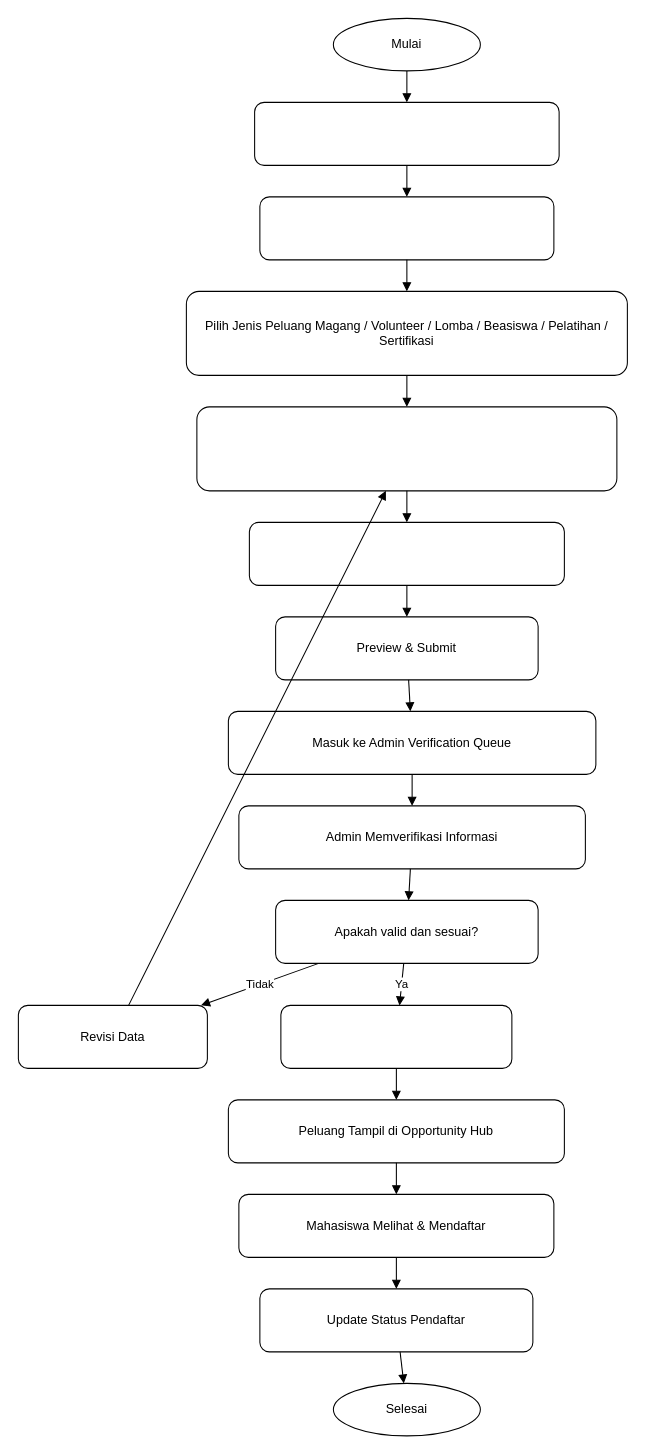
This 646x1454 diagram has some shape labels left out. Here are the shapes that lost their labels. From the top down, the centre of each, then its label:
the point at 406,133: Login / Registrasi Organizer
the point at 406,228: Buka Dashboard Organizer
the point at 406,448: Isi Detail Peluang Judul, deskripsi, syarat, deadline, lokasi, benefit
the point at 406,553: Upload Poster / Dokumen Pendukung
the point at 396,1036: Publish ke Konexa
